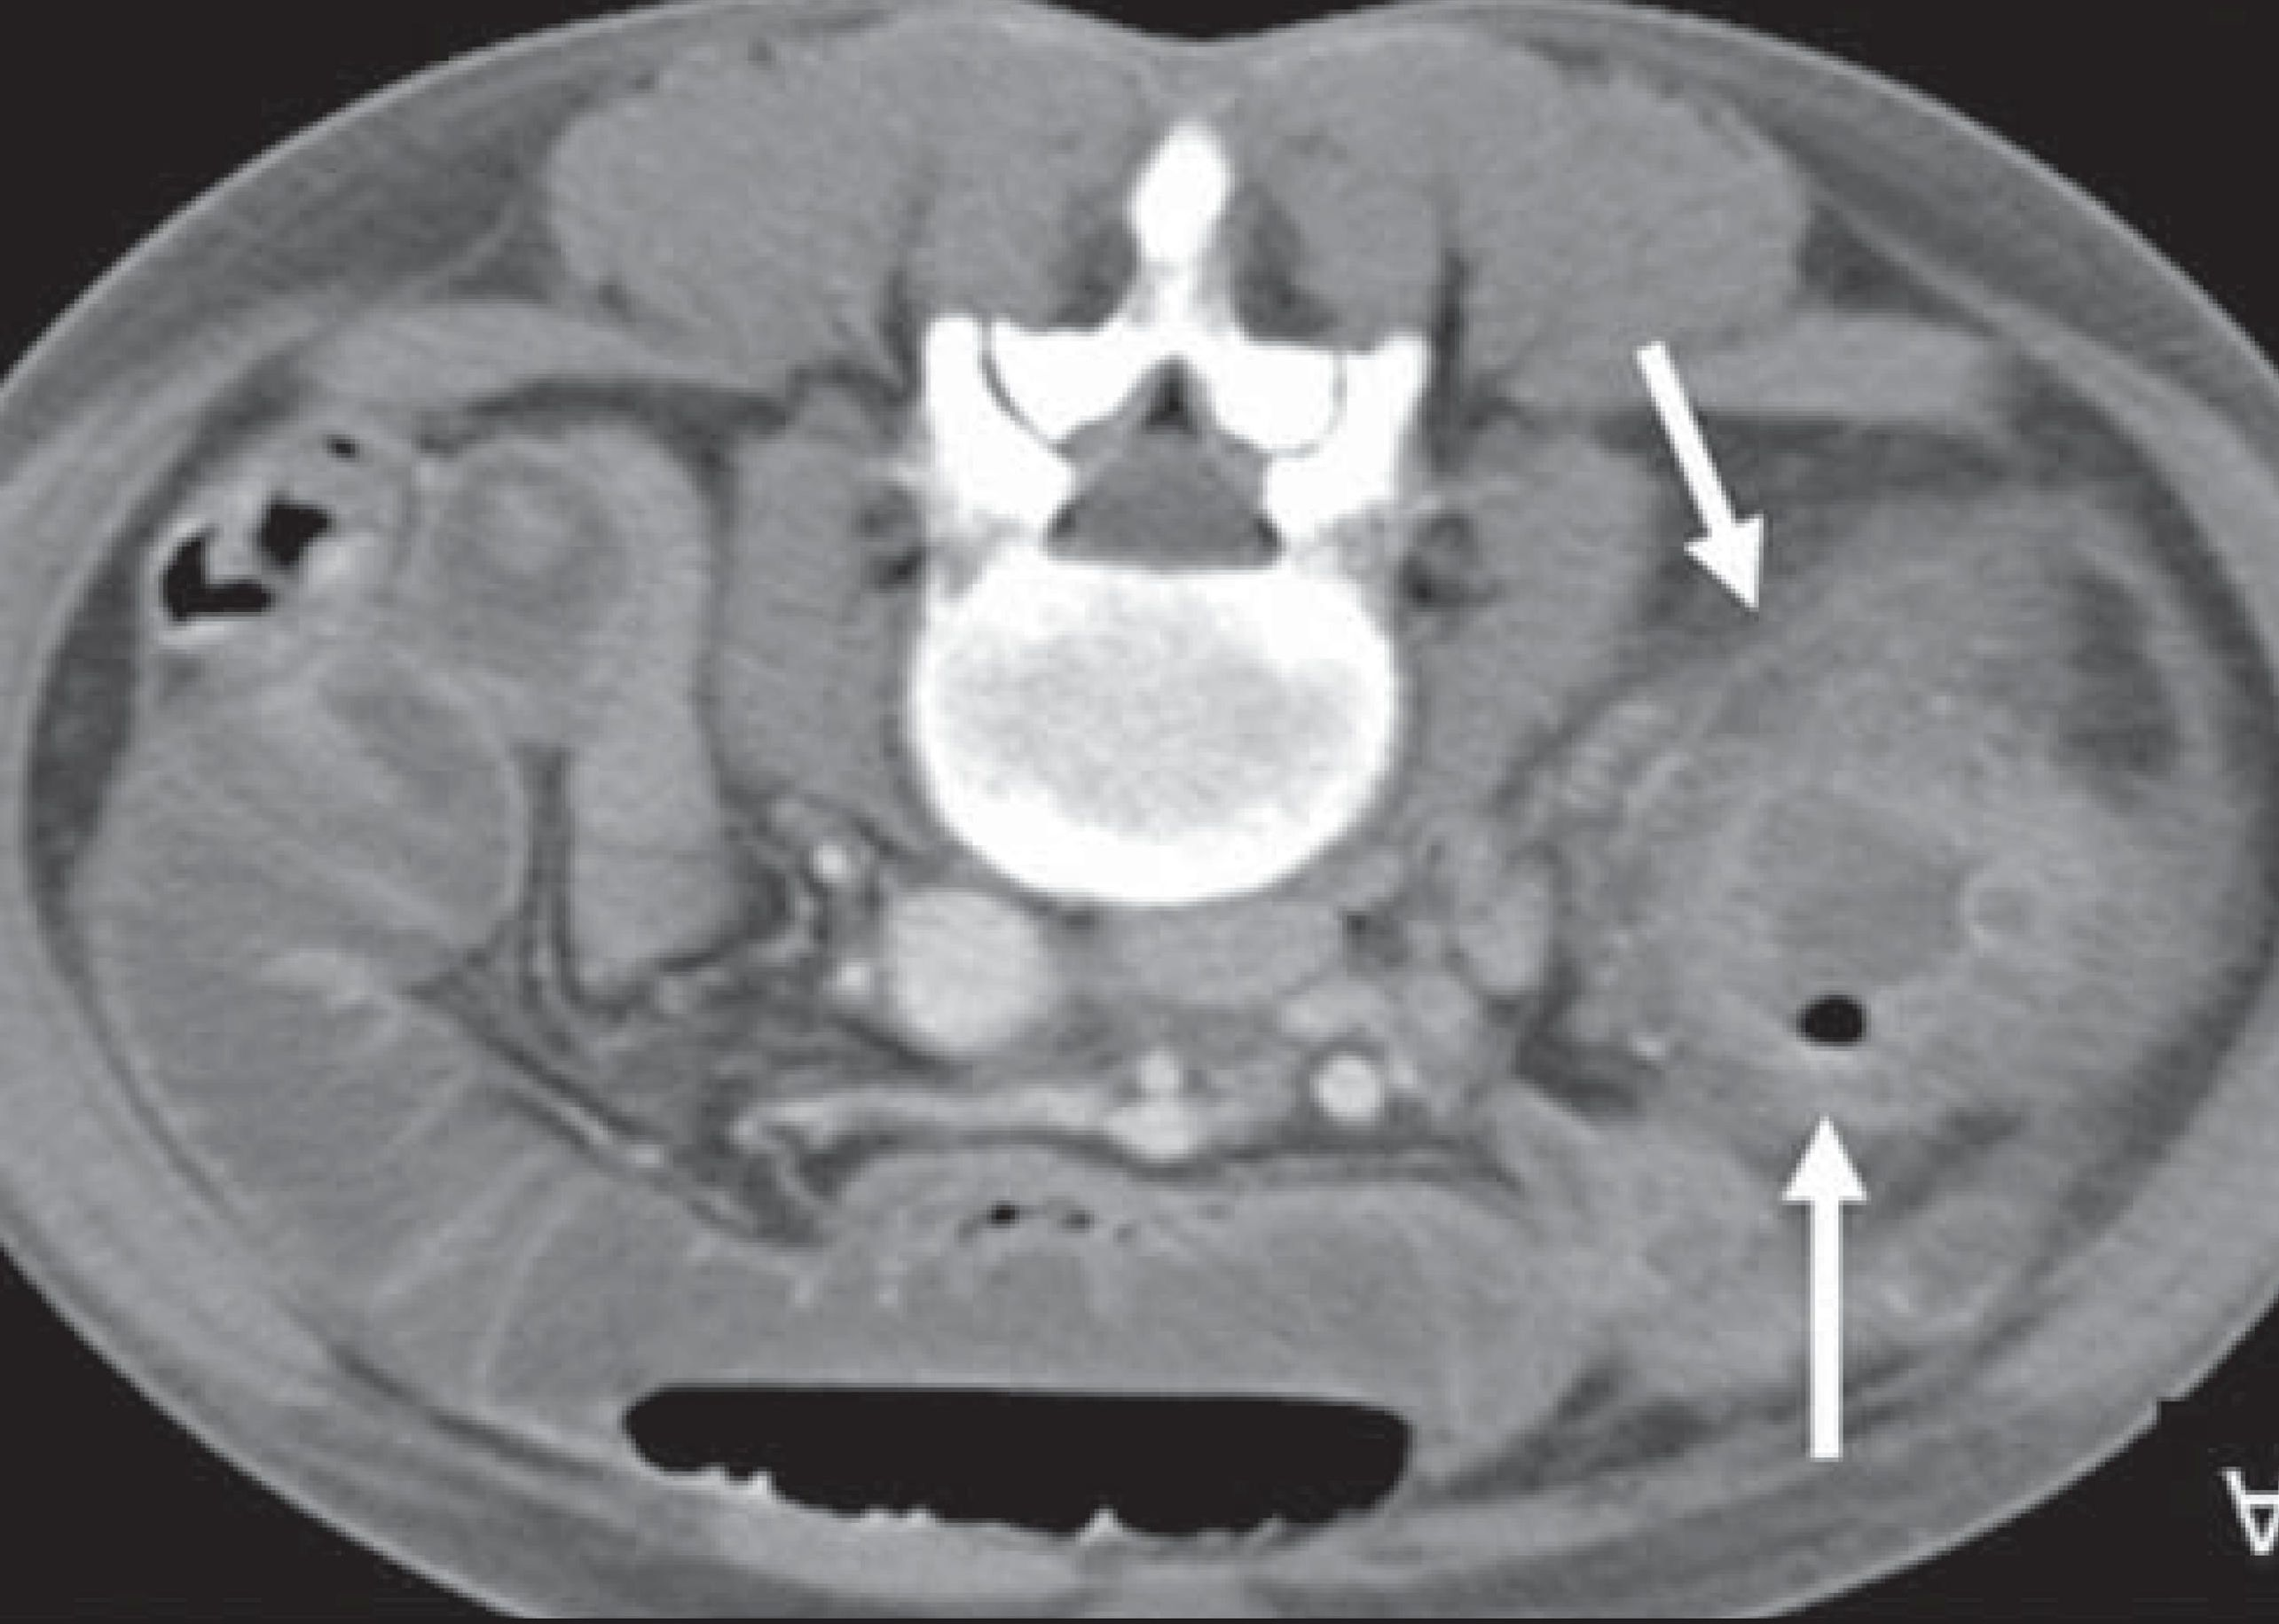anomaly: (1710, 772, 2091, 1012)
